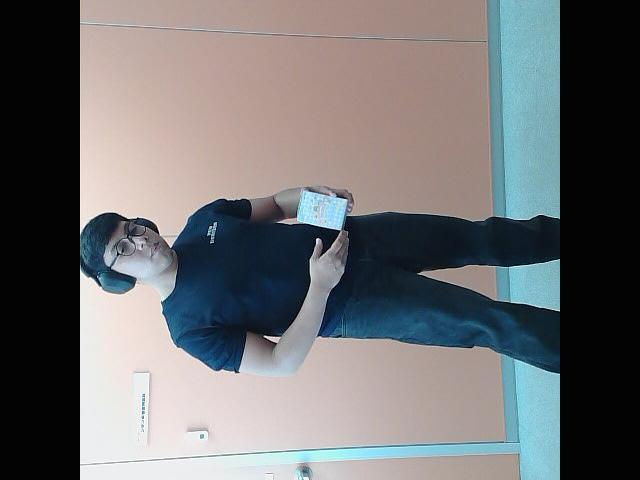Blind_box: (293, 183, 355, 232)
